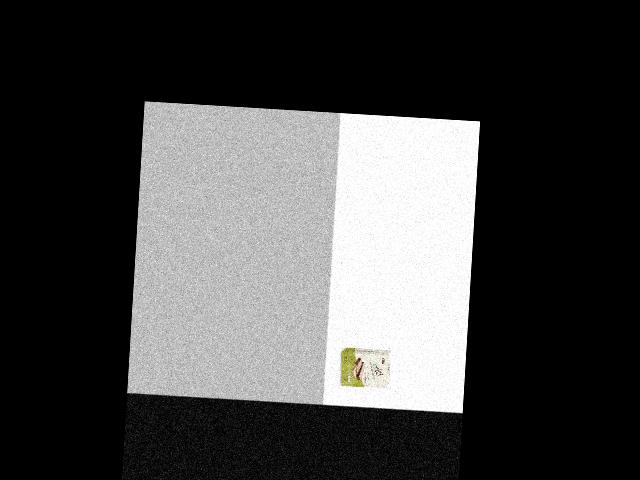chocolate: (337, 344, 391, 389)
